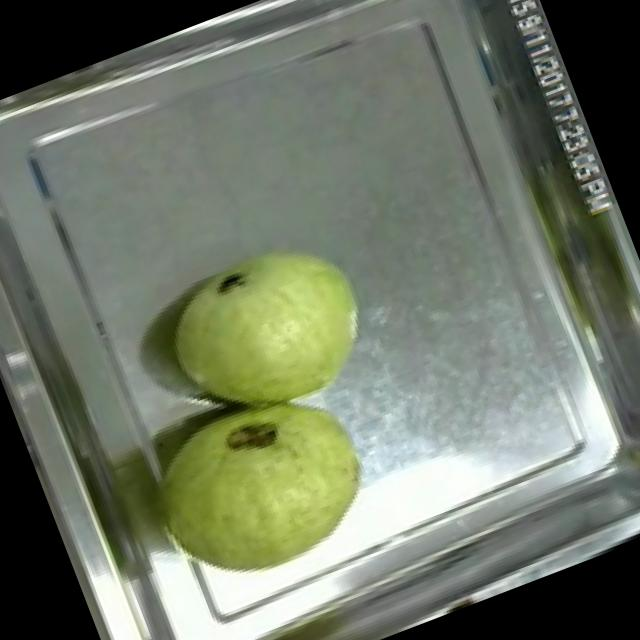Fruit: (129, 361, 395, 611), (146, 220, 396, 447)
